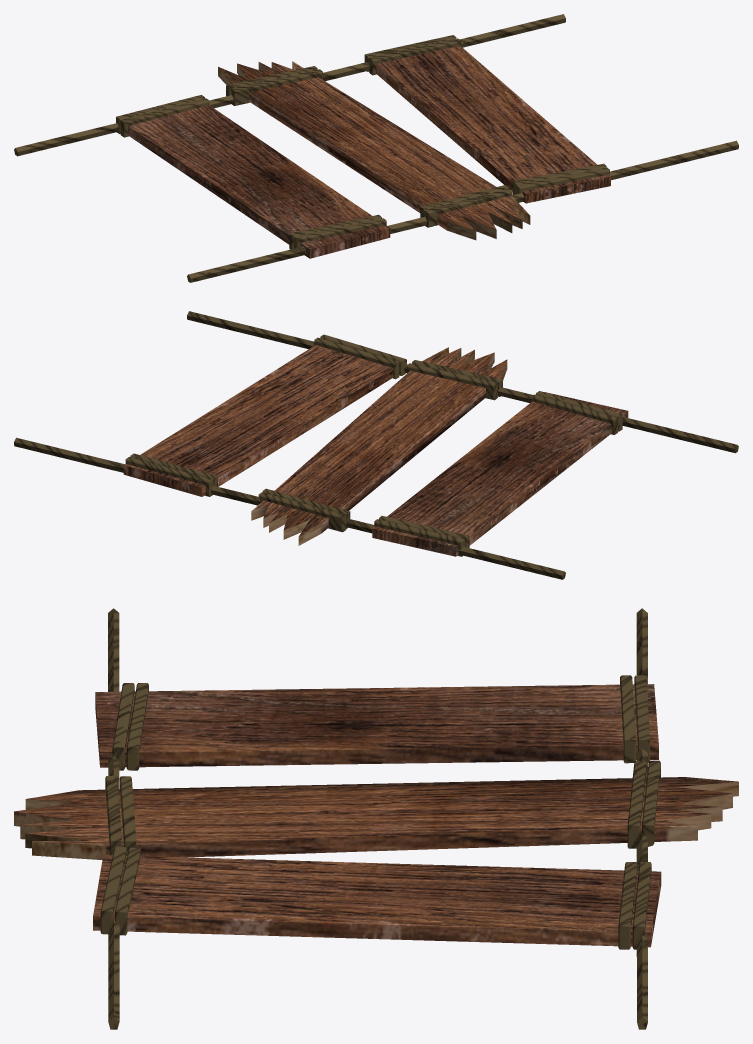
Rendered from Model_Bg_BridgeB.fbx.
3 views of the same model, one above another, from view 1: azimuth 30°, elevation 25°; view 2: azimuth 150°, elevation 25°; view 3: azimuth 270°, elevation 25° (orthographic). The views are drawn at different scales.
Parts seen in each view (by area): view 1: Model_Bg_Bridge2; view 2: Model_Bg_Bridge2; view 3: Model_Bg_Bridge2.
Part boxes in pixels (<box>): Model_Bg_Bridge2: <box>14,14,738,282</box>; Model_Bg_Bridge2: <box>14,311,738,579</box>; Model_Bg_Bridge2: <box>14,608,738,1029</box>.
Bounding box in the file's own units: 147 × 3.97 × 110.
